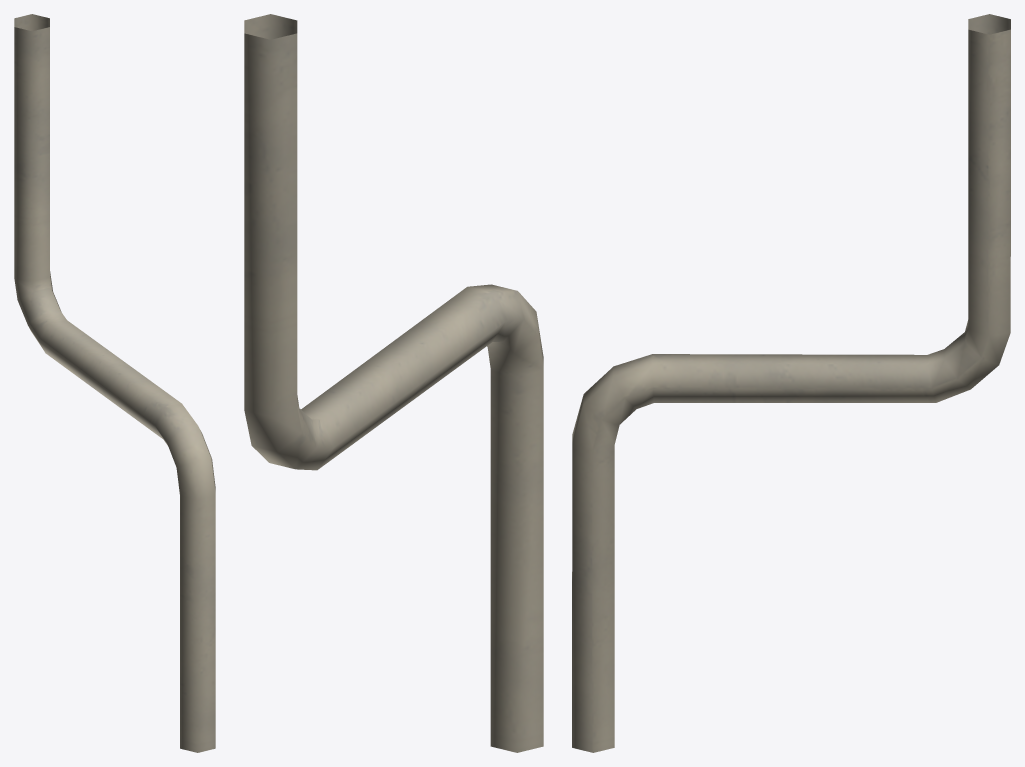
Rendered from MB_Tube_B_Angle_02.fbx.
3 views of the same model, side by side, from view 1: azimuth 30°, elevation 25°; view 2: azimuth 150°, elevation 25°; view 3: azimuth 270°, elevation 25° (orthographic). The views are drawn at different scales.
Parts seen in each view (by area): view 1: MB_Tube_B_Angle_02; view 2: MB_Tube_B_Angle_02; view 3: MB_Tube_B_Angle_02.
Boxes of the visible parts, x1,y1,x2,y2 form: MB_Tube_B_Angle_02: [14, 14, 215, 752]; MB_Tube_B_Angle_02: [244, 14, 543, 752]; MB_Tube_B_Angle_02: [572, 14, 1010, 752].
Size of the model in its own units: 6.2 by 100 by 55.37.
